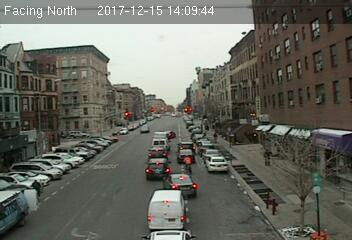bicycle: (183, 155, 192, 175)
car: (163, 173, 196, 195), (144, 157, 170, 179), (206, 156, 228, 171), (176, 147, 195, 164), (146, 146, 169, 157)
pedestrian: (264, 149, 273, 168)
truck: (145, 188, 186, 227), (1, 186, 29, 234), (152, 132, 167, 147)
